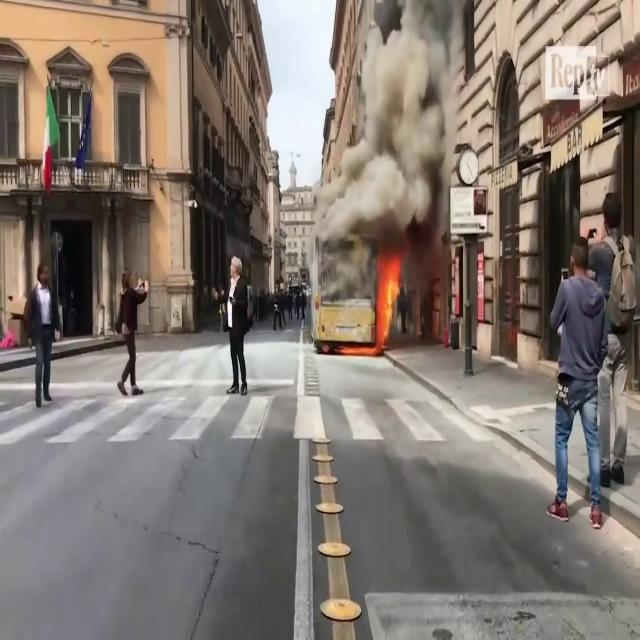Fire: (372, 246, 406, 348)
Smoke: (312, 0, 468, 238)
